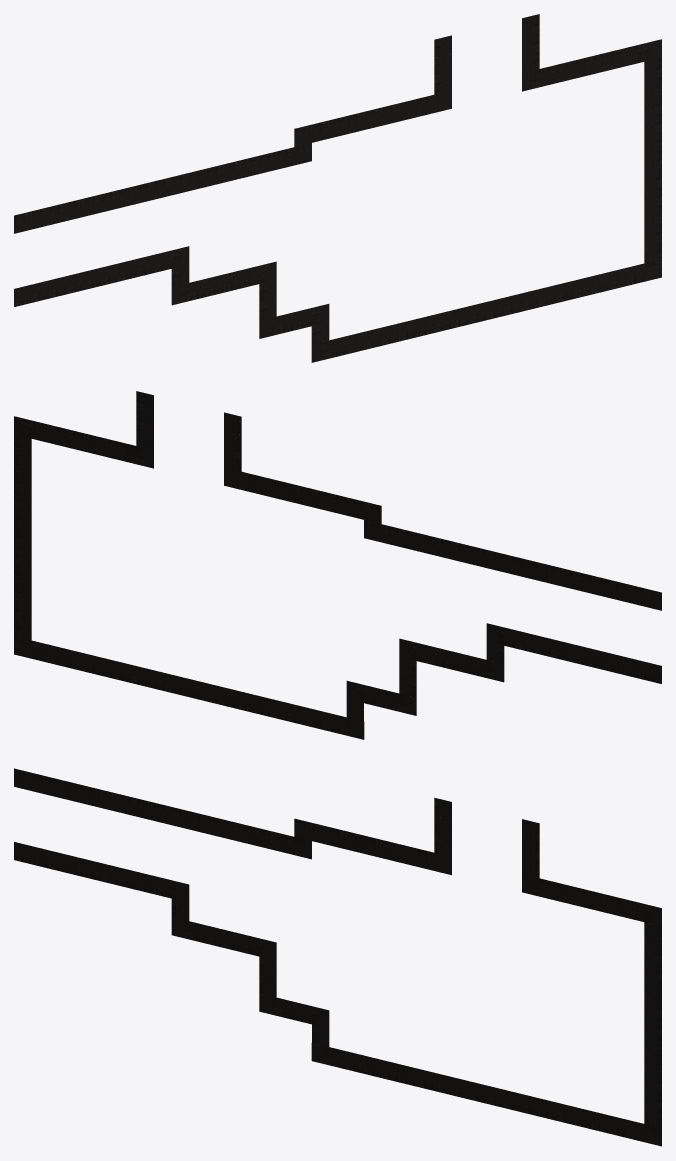
Rendered from Backface_Room1.fbx.
3 renders of one model, top to bottom at view 1: azimuth 30°, elevation 25°; view 2: azimuth 150°, elevation 25°; view 3: azimuth 330°, elevation 25°, orthographic.
Parts seen in each view (by area): view 1: Backface_Room1; view 2: Backface_Room1; view 3: Backface_Room1.
Boxes of the visible parts, box(x1,y1,x2,y2) form: Backface_Room1: box(14, 14, 661, 362); Backface_Room1: box(14, 391, 661, 739); Backface_Room1: box(14, 768, 661, 1146).
Size of the model in its own units: 3699 by 1600 by 0.0511.
